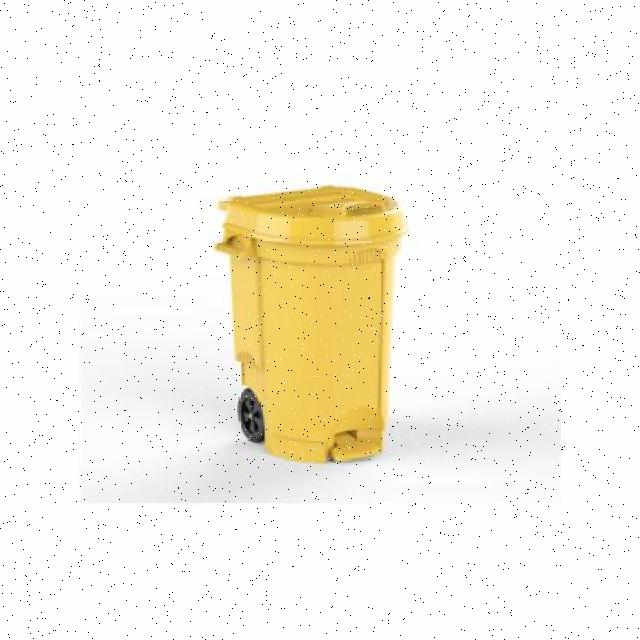garbage container: (204, 165, 410, 484)
